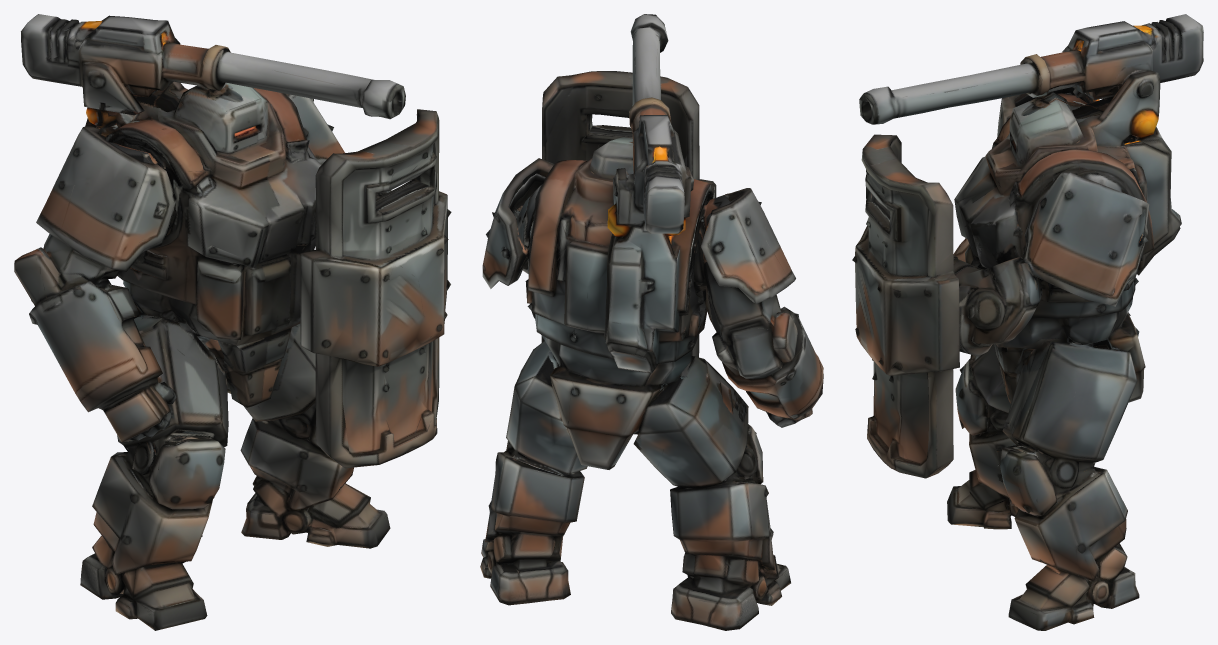
The model's file is Meshy_AI_Armored_Sentinel_0126172707_texture.fbx.
3 renders of one model, left to right at view 1: azimuth 30°, elevation 25°; view 2: azimuth 150°, elevation 25°; view 3: azimuth 270°, elevation 25°, orthographic. The views are drawn at different scales.
Visible parts, largest first — view 1: Mesh1.0; view 2: Mesh1.0; view 3: Mesh1.0.
Part boxes in pixels (box(x1,y1,x2,y2)): Mesh1.0: box(14, 14, 451, 630); Mesh1.0: box(480, 14, 823, 630); Mesh1.0: box(852, 14, 1203, 630).
Bounding box in the file's own units: 133 × 191 × 121.
1 material, 1 textured.
